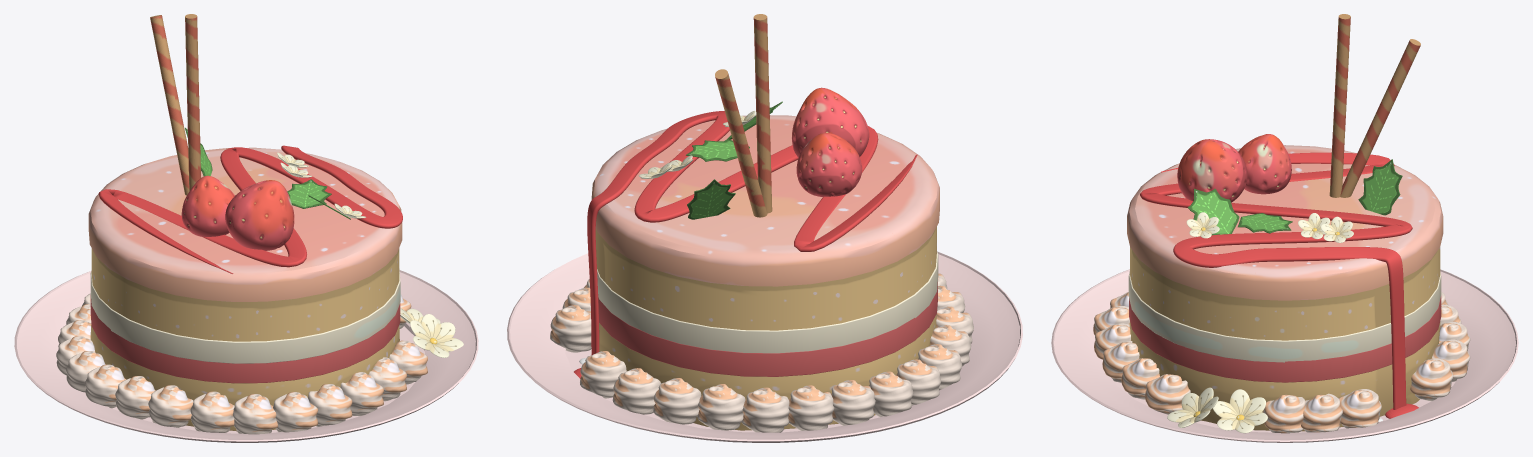
The model's file is cake.glb.
3 renders of one model, left to right at view 1: azimuth 30°, elevation 25°; view 2: azimuth 150°, elevation 25°; view 3: azimuth 270°, elevation 25°, orthographic. The views are drawn at different scales.
Parts seen in each view (by area): view 1: Cylinder.003_5, Cylinder_2, Sphere.016_15, Circle_7, NurbsPath.001_16, Cylinder.001_3, Cylinder.002_4, Sphere.001_8, Cylinder.005_12, Sphere.010_10, Plane.002_9; view 2: Cylinder.003_5, Cylinder_2, Sphere.016_15, Circle_7, NurbsPath.001_16, Cylinder.002_4, Cylinder.001_3, Sphere.001_8, Cylinder.005_12, Plane.002_9, Sphere.010_10; view 3: Cylinder.003_5, Cylinder_2, Circle_7, Sphere.016_15, NurbsPath.001_16, Cylinder.001_3, Cylinder.002_4, Sphere.001_8, Cylinder.005_12, Sphere.010_10, Plane.002_9.
Boxes of the visible parts, x1,y1,x2,y2 form: Cylinder.003_5: [88, 147, 402, 301]; Cylinder_2: [90, 248, 399, 431]; Sphere.016_15: [56, 293, 427, 434]; Circle_7: [14, 270, 478, 442]; NurbsPath.001_16: [98, 145, 402, 273]; Cylinder.001_3: [90, 269, 400, 363]; Cylinder.002_4: [90, 294, 400, 383]; Sphere.001_8: [181, 175, 294, 250]; Cylinder.005_12: [150, 14, 201, 195]; Sphere.010_10: [277, 152, 463, 357]; Plane.002_9: [185, 127, 350, 219]; Cylinder.003_5: [591, 115, 939, 286]; Cylinder_2: [595, 226, 936, 430]; Sphere.016_15: [550, 273, 973, 432]; Circle_7: [507, 251, 1022, 442]; NurbsPath.001_16: [587, 111, 917, 355]; Cylinder.002_4: [598, 282, 937, 376]; Cylinder.001_3: [597, 252, 938, 353]; Sphere.001_8: [792, 87, 869, 196]; Cylinder.005_12: [715, 14, 772, 217]; Plane.002_9: [686, 101, 782, 219]; Sphere.010_10: [639, 111, 756, 178]; Cylinder.003_5: [1127, 145, 1443, 300]; Cylinder_2: [1129, 247, 1440, 431]; Circle_7: [1051, 269, 1518, 442]; Sphere.016_15: [1093, 292, 1470, 433]; NurbsPath.001_16: [1140, 152, 1412, 409]; Cylinder.001_3: [1128, 271, 1441, 362]; Cylinder.002_4: [1129, 296, 1441, 382]; Sphere.001_8: [1177, 134, 1291, 202]; Cylinder.005_12: [1329, 14, 1420, 197]; Sphere.010_10: [1167, 212, 1353, 433]; Plane.002_9: [1187, 159, 1402, 235].
Bounding box in the file's own units: 3.15 × 2.57 × 3.15.
Materials: 13 (9 with a texture image).
